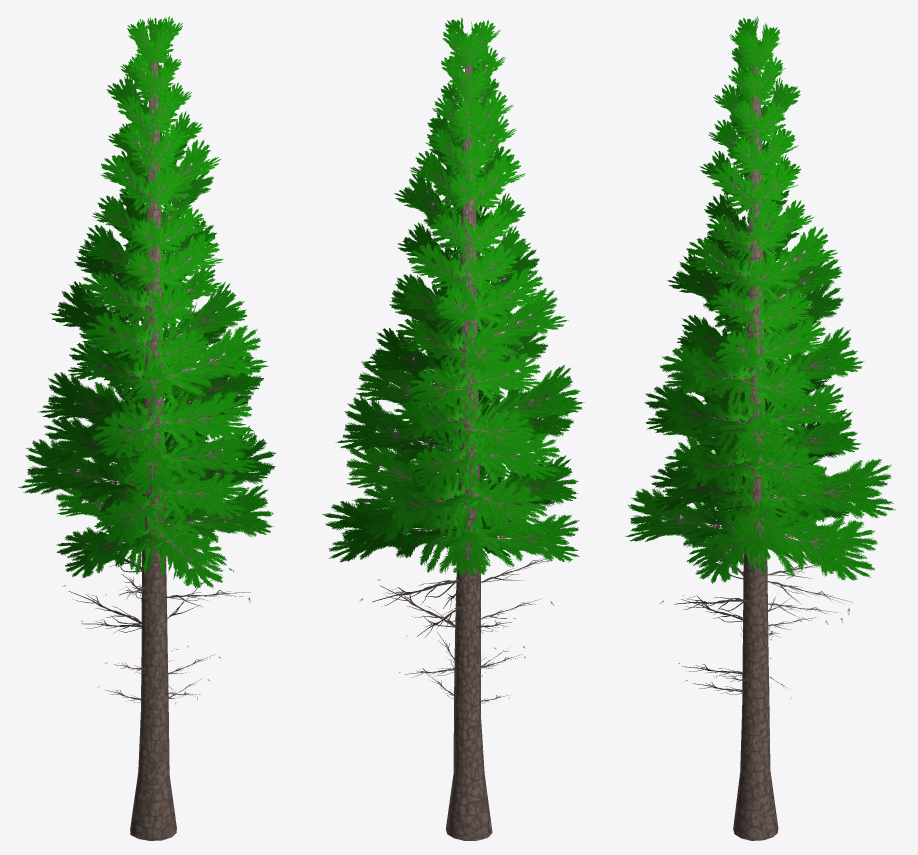
Rendered from FAE_Pine_A.fbx.
The picture shows the model from 3 angles, left to right: view 1: azimuth 30°, elevation 25°; view 2: azimuth 150°, elevation 25°; view 3: azimuth 270°, elevation 25°; orthographic projection.
Parts seen in each view (by area): view 1: FAE_Pine_A_LOD0; view 2: FAE_Pine_A_LOD0; view 3: FAE_Pine_A_LOD0.
Boxes of the visible parts, x1,y1,x2,y2 form: FAE_Pine_A_LOD0: (18, 16, 276, 840); FAE_Pine_A_LOD0: (322, 17, 584, 840); FAE_Pine_A_LOD0: (625, 16, 895, 840).
Size of the model in its own units: 836 by 2782 by 882.
Materials: 2 (2 with a texture image).
